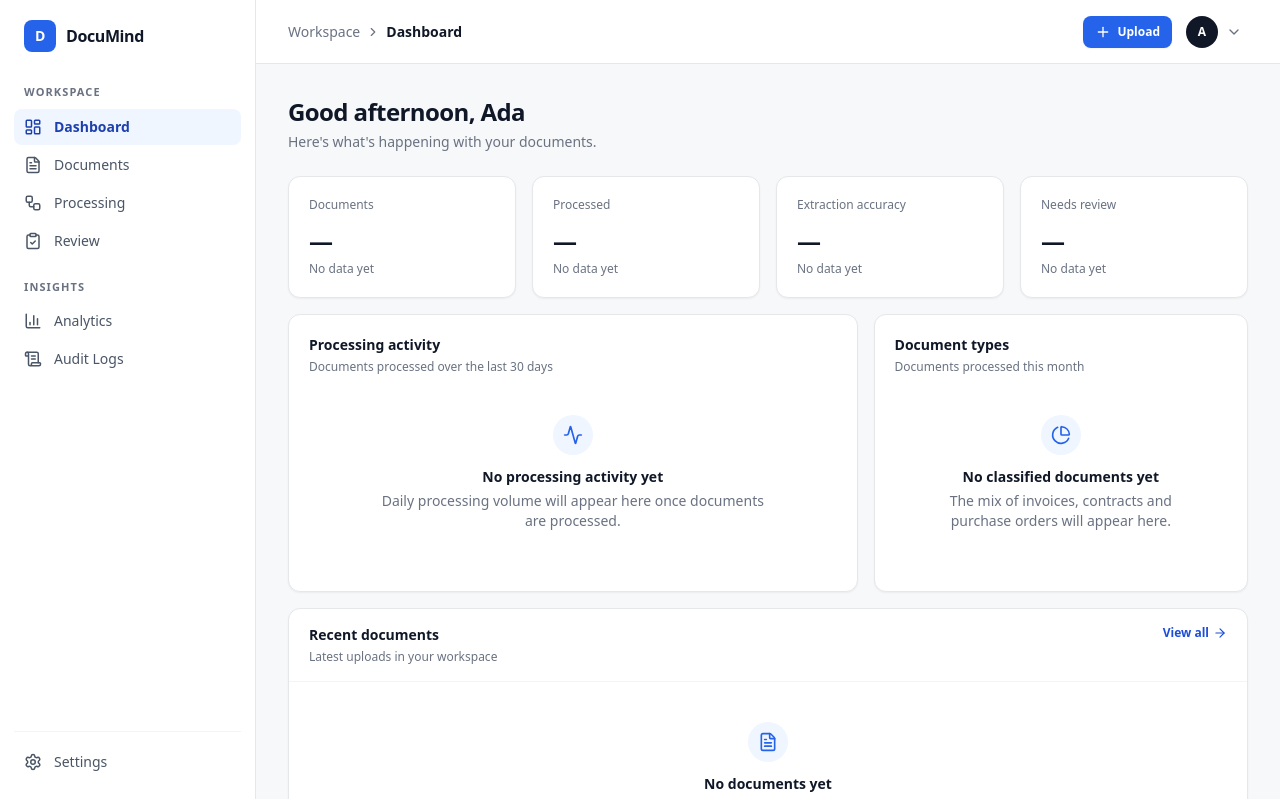
it: AppShell › account menu › shows who is signed in and closes on Escape, returning focus
Expected: the heading "Good afternoon, Ada" is shown, [288,95,525,128]
Step 1. Click the button named "Account" → (1216, 32), box [1184,14,1248,50]
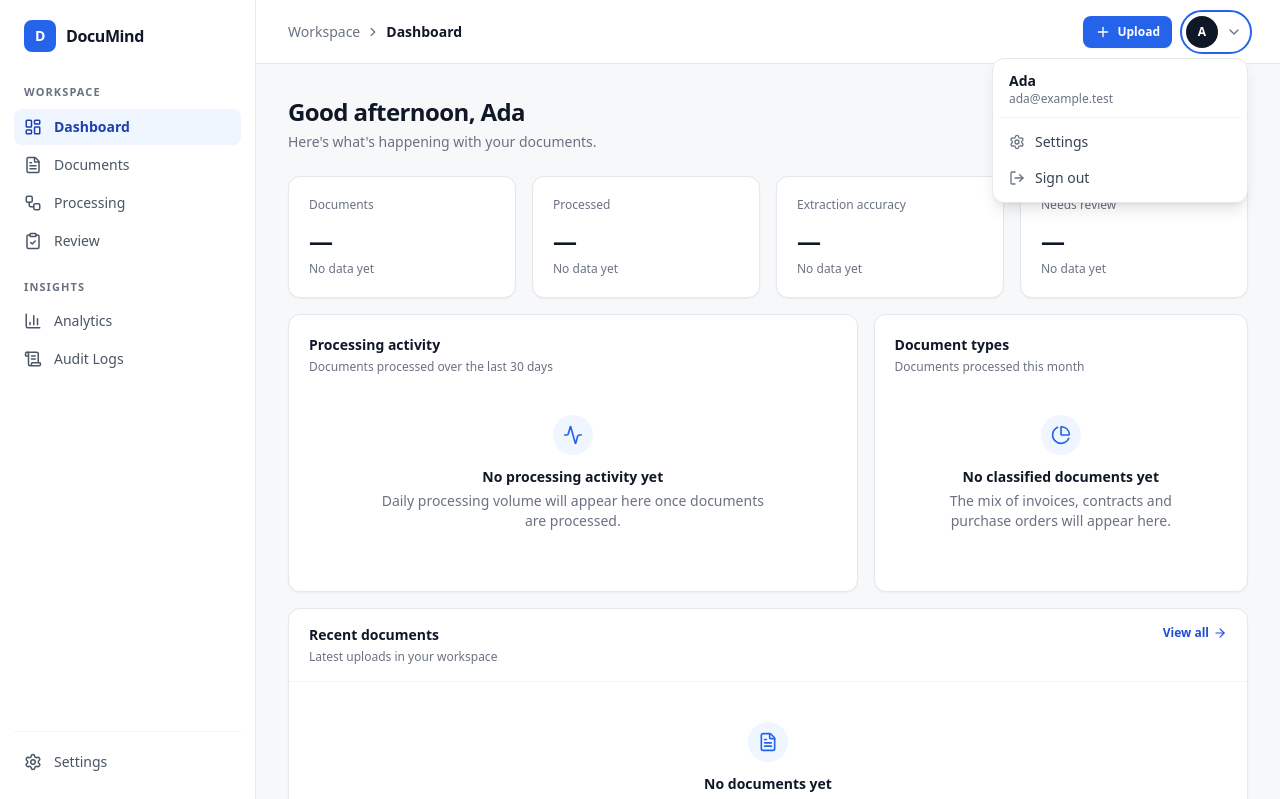
Expected: the text "ada@example.test" is shown, [1009,90,1113,106]
Step 2. Press Escape
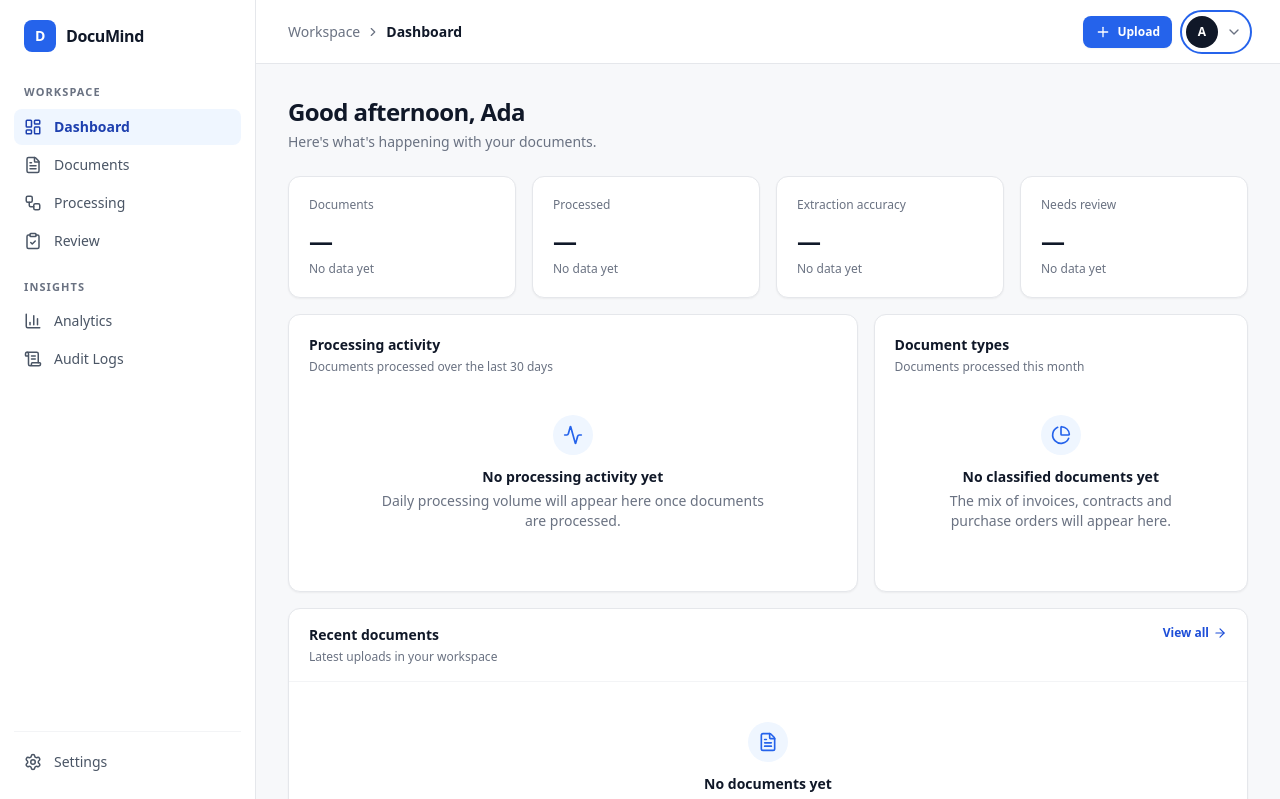
Expected: the button "Sign out" is gone
